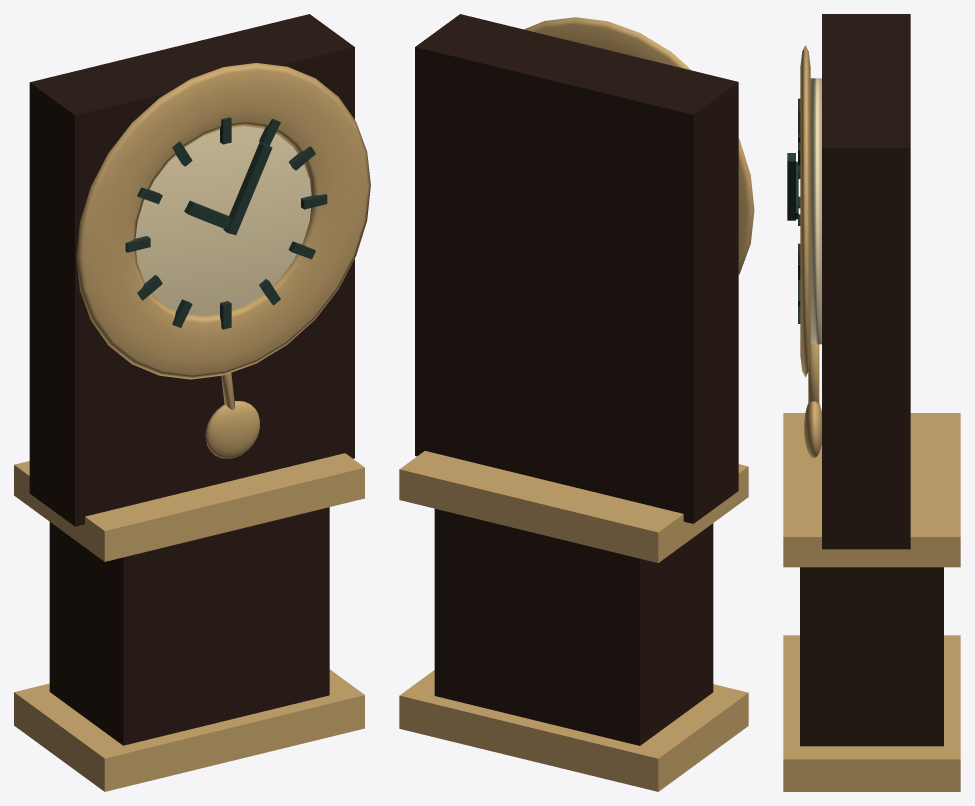
File: club_clock.glb
The picture shows the model from 3 angles, left to right: view 1: azimuth 30°, elevation 25°; view 2: azimuth 150°, elevation 25°; view 3: azimuth 270°, elevation 25°; orthographic projection. The views are drawn at different scales.
Parts seen in each view (by area): view 1: Bezel.005, Bob.005; view 2: Bezel.005; view 3: Bezel.005, Bob.005.
Part boxes in pixels (x1=…): Bezel.005: x1=14, y1=14, x2=370, y2=791; Bob.005: x1=205, y1=373, x2=259, y2=458; Bezel.005: x1=399, y1=14, x2=754, y2=791; Bezel.005: x1=783, y1=14, x2=960, y2=791; Bob.005: x1=804, y1=344, x2=821, y2=457.
Size of the model in its own units: 1.2 by 2.66 by 0.64.
